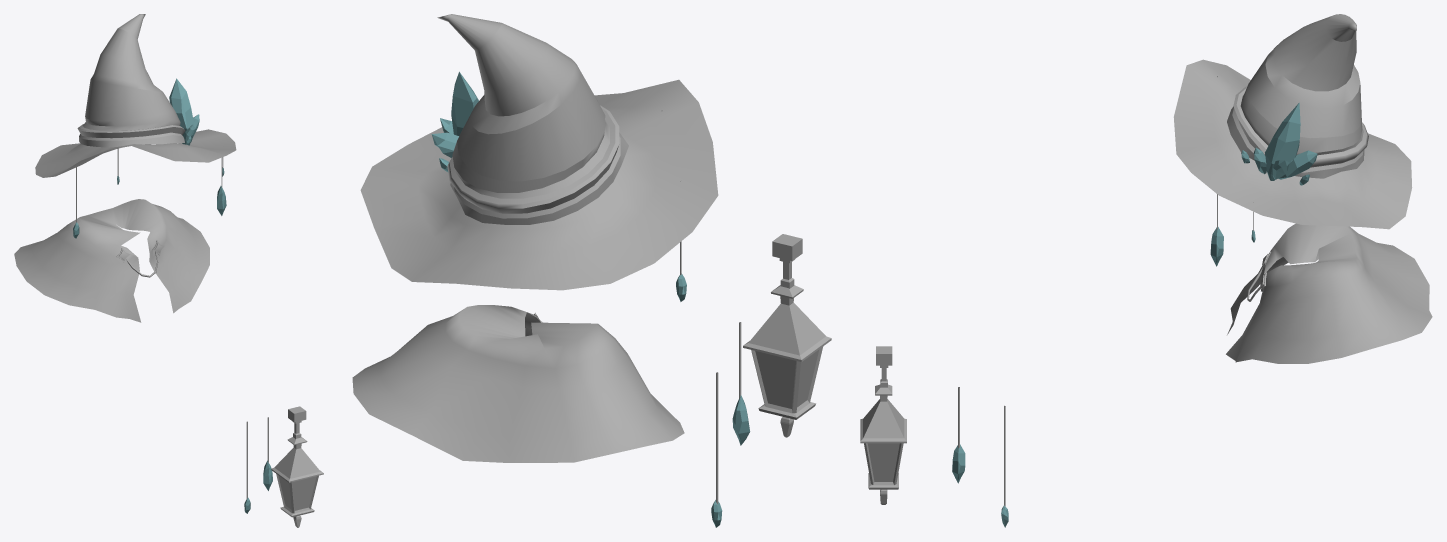
The model's file is skin3 props.fbx.
3 renders of one model, left to right at view 1: azimuth 30°, elevation 25°; view 2: azimuth 150°, elevation 25°; view 3: azimuth 270°, elevation 25°, orthographic. The views are drawn at different scales.
Parts seen in each view (by area): view 1: pCylinder88, polySurface334, polySurface336, pCone22; view 2: polySurface334, pCylinder88, polySurface336, pCone22; view 3: polySurface334, pCylinder88, polySurface336, pCone22.
Boxes of the visible parts, x1,y1,x2,y2 form: pCylinder88: (14,199,209,322); polySurface334: (35,14,236,238); polySurface336: (271,406,323,527); pCone22: (244,417,272,513); polySurface334: (360,14,718,301); pCylinder88: (352,305,684,462); polySurface336: (743,234,831,437); pCone22: (711,322,750,527); polySurface334: (1173,14,1412,266); pCylinder88: (1226,223,1432,363); polySurface336: (860,346,906,504); pCone22: (952,387,1008,527).
Size of the model in its own units: 4.53 by 9.06 by 9.01.
